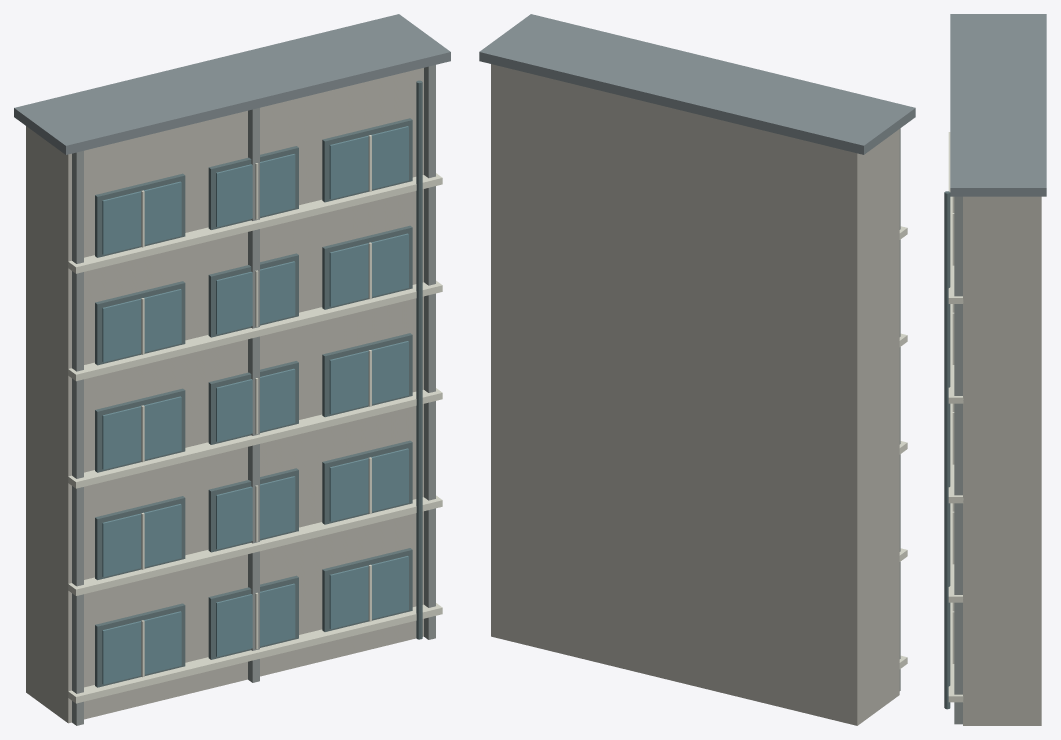
Rendered from facade_module.fbx.
3 views of the same model, side by side, from view 1: azimuth 30°, elevation 25°; view 2: azimuth 150°, elevation 25°; view 3: azimuth 270°, elevation 25° (orthographic). The views are drawn at different scales.
Visible parts, largest first — view 1: facade_module__masonry, facade_module__roof_lip, facade_module__vertical_pier, facade_module__vertical_pier.002, facade_module__vertical_pier.001, facade_module__horizontal_sill, facade_module__horizontal_sill.003, facade_module__horizontal_sill.002, facade_module__horizontal_sill.004, facade_module__horizontal_sill.001, facade_module__window_glazing.003, facade_module__window_glazing.006 (+29 smaller); view 2: facade_module__masonry, facade_module__roof_lip, facade_module__vertical_pier; view 3: facade_module__masonry, facade_module__roof_lip, facade_module__vertical_pier.002, facade_module__rainpipe, facade_module__horizontal_sill.004, facade_module__horizontal_sill.002, facade_module__horizontal_sill, facade_module__horizontal_sill.003, facade_module__horizontal_sill.001.
Boxes of the visible parts, x1,y1,x2,y2 form: facade_module__masonry: (26,68,423,723); facade_module__roof_lip: (14,14,450,154); facade_module__vertical_pier: (72,150,83,725); facade_module__vertical_pier.002: (424,65,435,639); facade_module__vertical_pier.001: (248,108,259,682); facade_module__horizontal_sill: (68,603,442,703); facade_module__horizontal_sill.003: (68,280,442,381); facade_module__horizontal_sill.002: (68,388,442,488); facade_module__horizontal_sill.004: (68,173,442,273); facade_module__horizontal_sill.001: (68,495,442,595); facade_module__window_glazing.003: (102,504,181,577); facade_module__window_glazing.006: (102,396,181,469); facade_module__masonry: (491,64,899,725); facade_module__roof_lip: (479,14,915,154); facade_module__vertical_pier: (899,128,900,690); facade_module__masonry: (963,196,1041,725); facade_module__roof_lip: (950,14,1046,196); facade_module__vertical_pier.002: (954,196,962,724); facade_module__rainpipe: (944,191,950,709); facade_module__horizontal_sill.004: (948,132,963,303); facade_module__horizontal_sill.002: (948,403,963,503); facade_module__horizontal_sill: (948,602,963,702); facade_module__horizontal_sill.003: (948,304,963,403); facade_module__horizontal_sill.001: (948,503,962,602).
Size of the model in its own units: 1050 by 1524 by 260.
